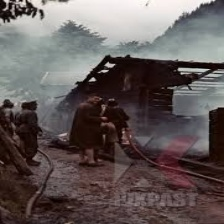smoke: (180, 30, 224, 94), (10, 32, 58, 80)
